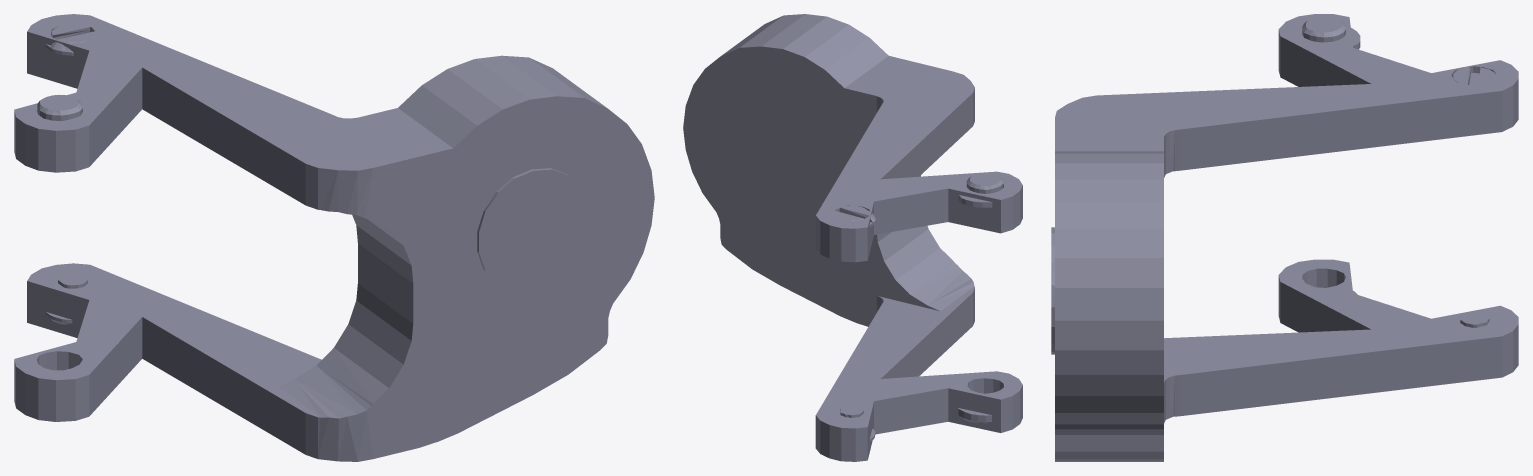
File: hand2_link_1_1_visuals.obj
The picture shows the model from 3 angles, left to right: view 1: azimuth 30°, elevation 25°; view 2: azimuth 150°, elevation 25°; view 3: azimuth 270°, elevation 25°; orthographic projection. The views are drawn at different scales.
Size of the model in its own units: 0.0311 by 0.0192 by 0.0257.
